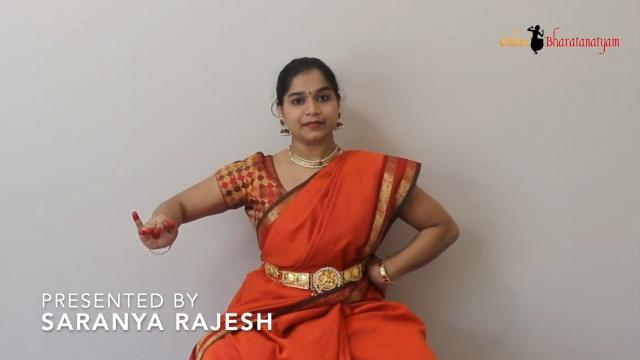Hamsapaksha: (114, 204, 192, 276)
